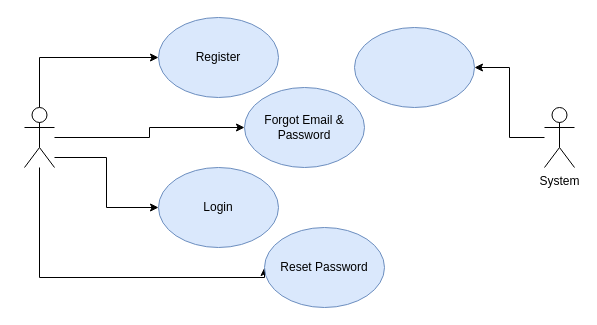
Some shapes in this 597 by 325 pixel diagram are drawn without their labels. Here are the shapes that lost their labels. From the top down, the centre of each, then its label:
At [414,67]: "Send OTP".
At [39,137]: "Member".
